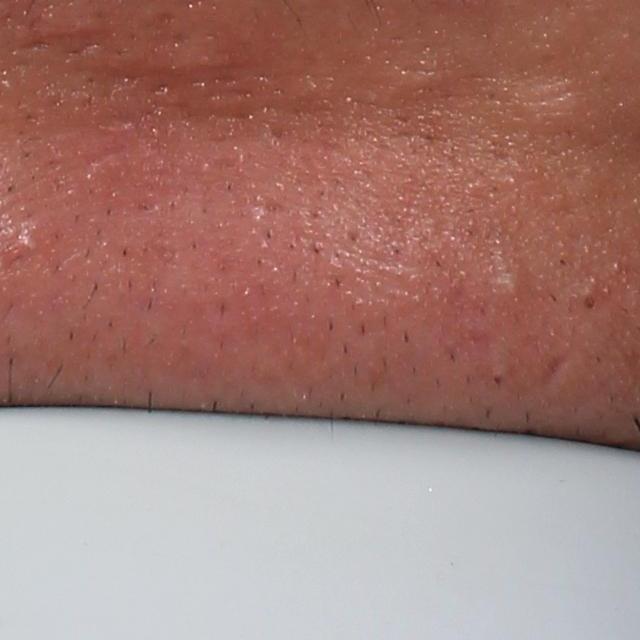atrophic_scar: (147, 46, 418, 131), (470, 70, 571, 129), (50, 65, 140, 117), (51, 145, 130, 191), (534, 352, 570, 396)
comedo: (583, 295, 598, 311)
